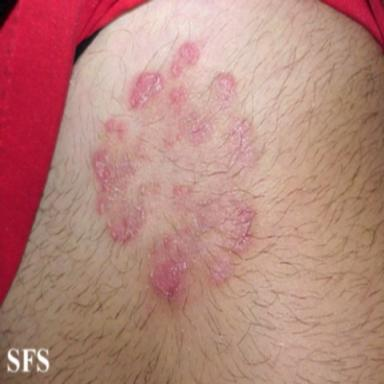Tinea-Corporis: (91, 41, 257, 299)
